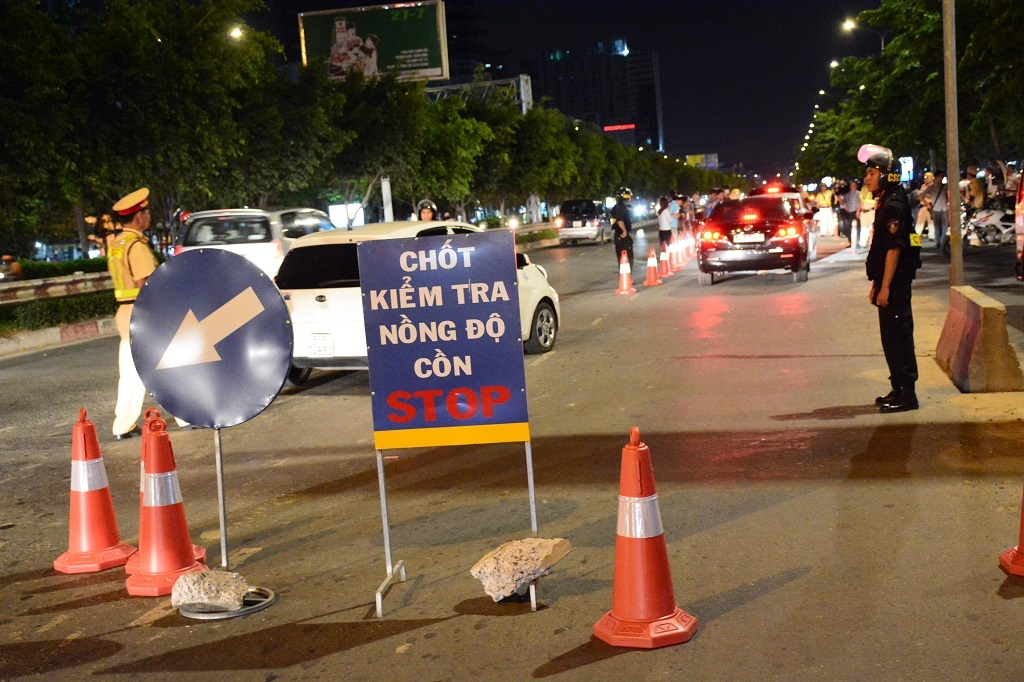police: (94, 193, 198, 439)
